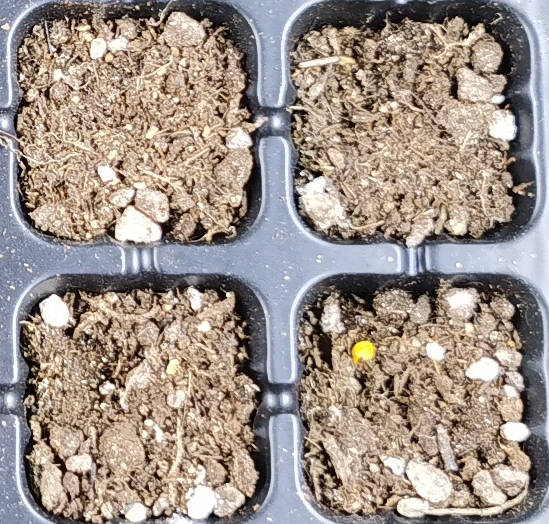pepper seed: (162, 156, 540, 524)
